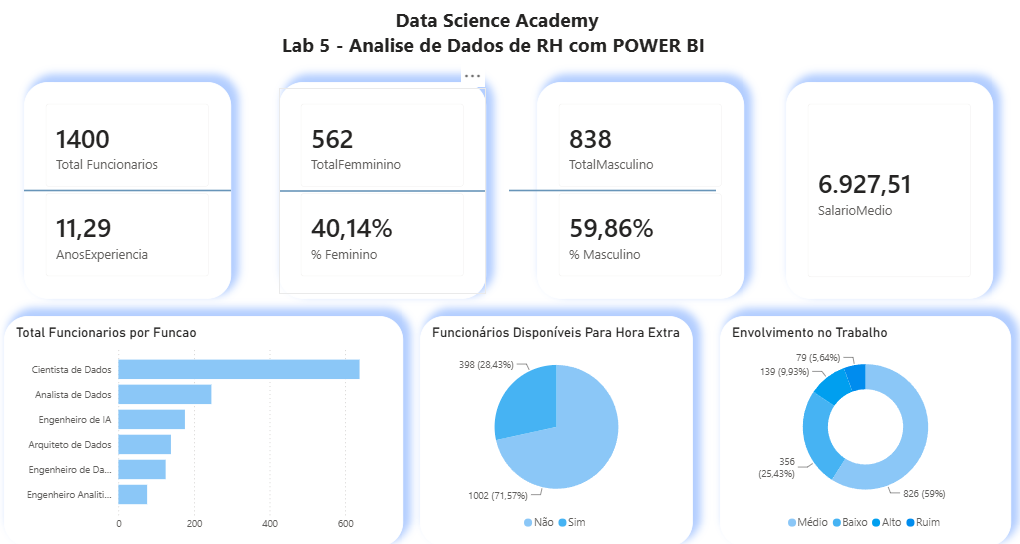

The dashboard page shown, as its layout file describes it:
{"tool":"powerbi","page":{"name":"Página 1","canvas":[1280,720],"ordinal":0},"visuals":[{"type":"barChart","fields":{"Category":["DatasetRH.Funcao"],"Y":["Medidas.Total Funcionarios"]},"box":[8.8,432.5,498.8,287.5],"z":0},{"type":"pieChart","title":"Funcionários Disponíveis  Para Hora Extra","fields":{"Category":["DatasetRH.Disponivel_Hora_Extra"],"Y":["Medidas.Total Funcionarios"]},"box":[528.8,432.5,341.2,287.5],"z":1000},{"type":"donutChart","title":"Envolvimento no Trabalho ","fields":{"Y":["Medidas.Total Funcionarios"],"Category":["DatasetRH.Envelvimento Trabalho"]},"box":[903.8,432.5,363.8,287.5],"z":2000},{"type":"textbox","box":[351.2,40,518.8,83.8],"z":3000},{"type":"cardVisual","fields":{"Data":["Medidas.Total Funcionarios","Medidas.AnosExperiencia"]},"box":[33.8,140,258.8,271.2],"z":4000},{"type":"cardVisual","fields":{"Data":["Medidas.TotalFemminino","Medidas.% Feminino"]},"box":[352.5,140,258.8,271.2],"z":5000},{"type":"cardVisual","fields":{"Data":["Medidas.TotalMasculino","Medidas.% Masculino"]},"box":[675,140,258.8,271.2],"z":6000},{"type":"cardVisual","fields":{"Data":["Medidas.SalarioMedio"]},"box":[986.2,140,258.8,271.2],"z":7000},{"type":"shape","box":[352.5,147.5,258.8,257.5],"z":8000},{"type":"shape","box":[675,140,258.8,271.2],"z":9000},{"type":"shape","box":[33.8,140,258.8,271.2],"z":9001}]}

Visuals, with their boxes on the page's 1280x720 design canvas (x1, y1, x2, y2). These are canvas units, not pixel positions in the 1020x544 screenshot, which may show the page scaled, cropped or inside an application window:
barChart - DatasetRH.Funcao x Medidas.Total Funcionarios: 9,432,508,720
"Funcionários Disponíveis  Para Hora Extra" pieChart: 529,432,870,720
"Envolvimento no Trabalho " donutChart: 904,432,1268,720
textbox: 351,40,870,124
cardVisual - Medidas.Total Funcionarios x Medidas.AnosExperiencia: 34,140,293,411
cardVisual - Medidas.TotalFemminino x Medidas.% Feminino: 352,140,611,411
cardVisual - Medidas.TotalMasculino x Medidas.% Masculino: 675,140,934,411
cardVisual - Medidas.SalarioMedio: 986,140,1245,411
shape: 352,148,611,405
shape: 675,140,934,411
shape: 34,140,293,411
